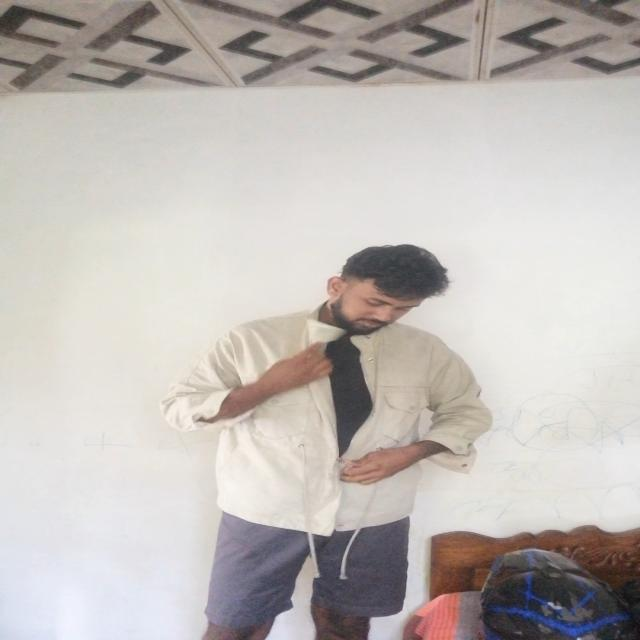Jacket_Wearer: (178, 304, 527, 548)
Person: (192, 226, 505, 640)
